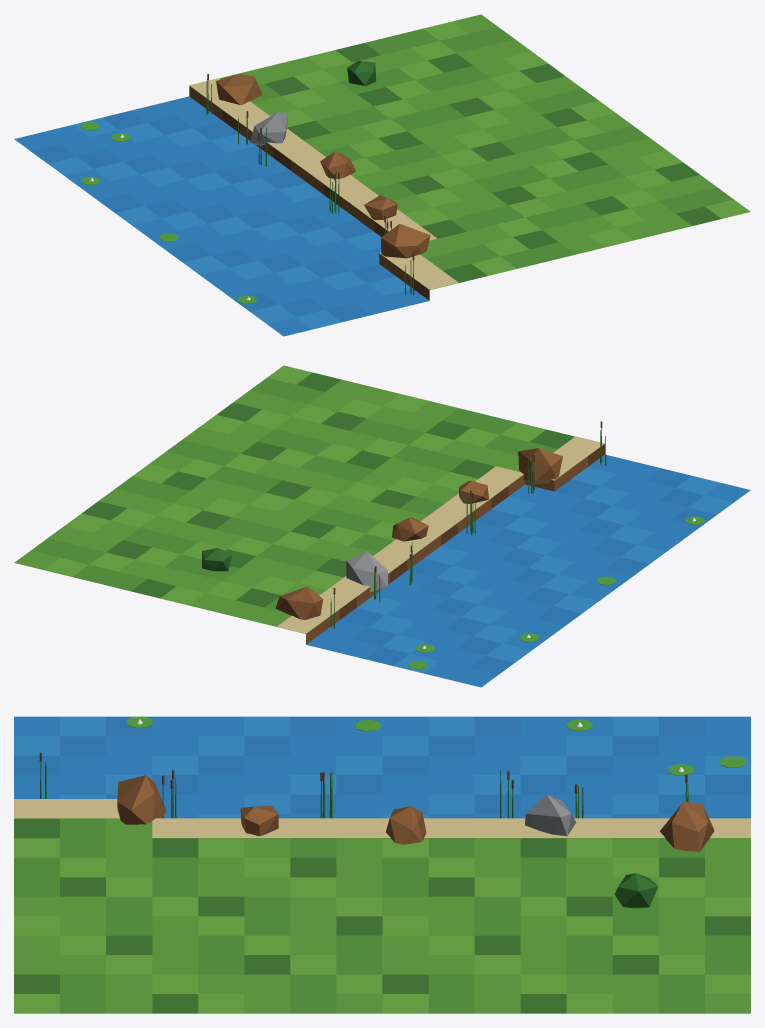
File: chunk_4_8.glb
3 views of the same model, one above another, from view 1: azimuth 30°, elevation 25°; view 2: azimuth 150°, elevation 25°; view 3: azimuth 270°, elevation 25° (orthographic). The views are drawn at different scales.
Visible parts, largest first — view 1: chunk_4_8; view 2: chunk_4_8; view 3: chunk_4_8.
Part boxes in pixels (box(x1,y1,x2,y2)): chunk_4_8: box(14, 14, 750, 336); chunk_4_8: box(14, 365, 750, 687); chunk_4_8: box(14, 716, 750, 1013).
Size of the model in its own units: 16 by 1.49 by 16.
